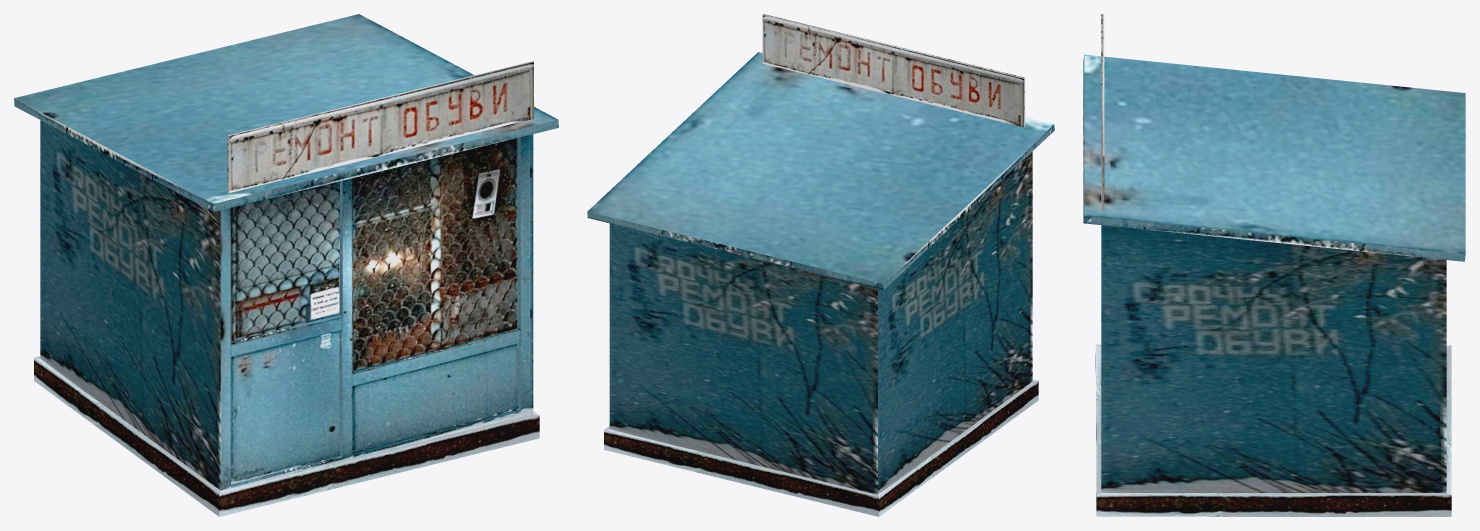
The picture shows the model from 3 angles, left to right: view 1: azimuth 30°, elevation 25°; view 2: azimuth 150°, elevation 25°; view 3: azimuth 270°, elevation 25°; orthographic projection. The views are drawn at different scales.
Visible parts, largest first — view 1: RemontObuvi_LOD-0; view 2: RemontObuvi_LOD-0; view 3: RemontObuvi_LOD-0.
Part boxes in pixels (x1,y1,x2,y2): RemontObuvi_LOD-0: (14, 14, 558, 516); RemontObuvi_LOD-0: (587, 14, 1054, 516); RemontObuvi_LOD-0: (1083, 14, 1465, 516).
Size of the model in its own units: 0.8846 by 0.9185 by 0.8867.
Materials: 1 (1 with a texture image).
